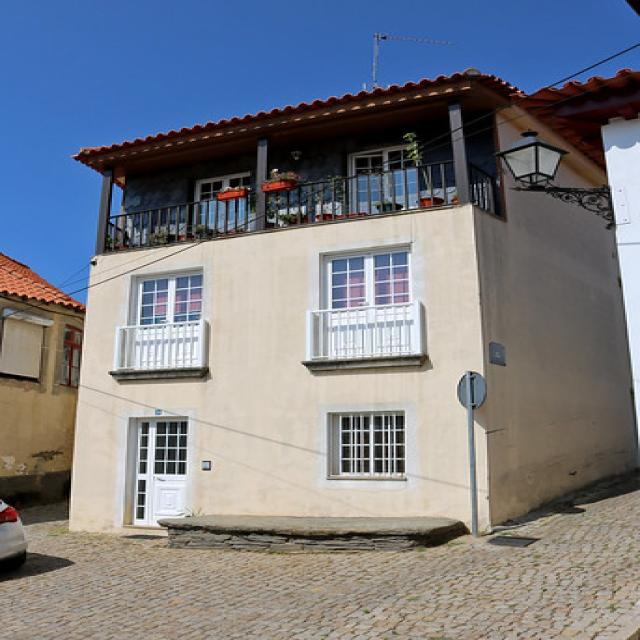building: (52, 66, 640, 550)
